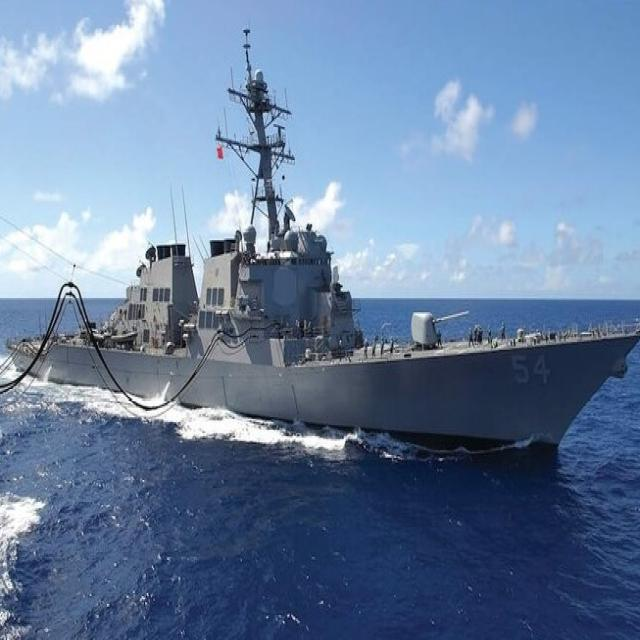navalvessels: (2, 52, 640, 461)
